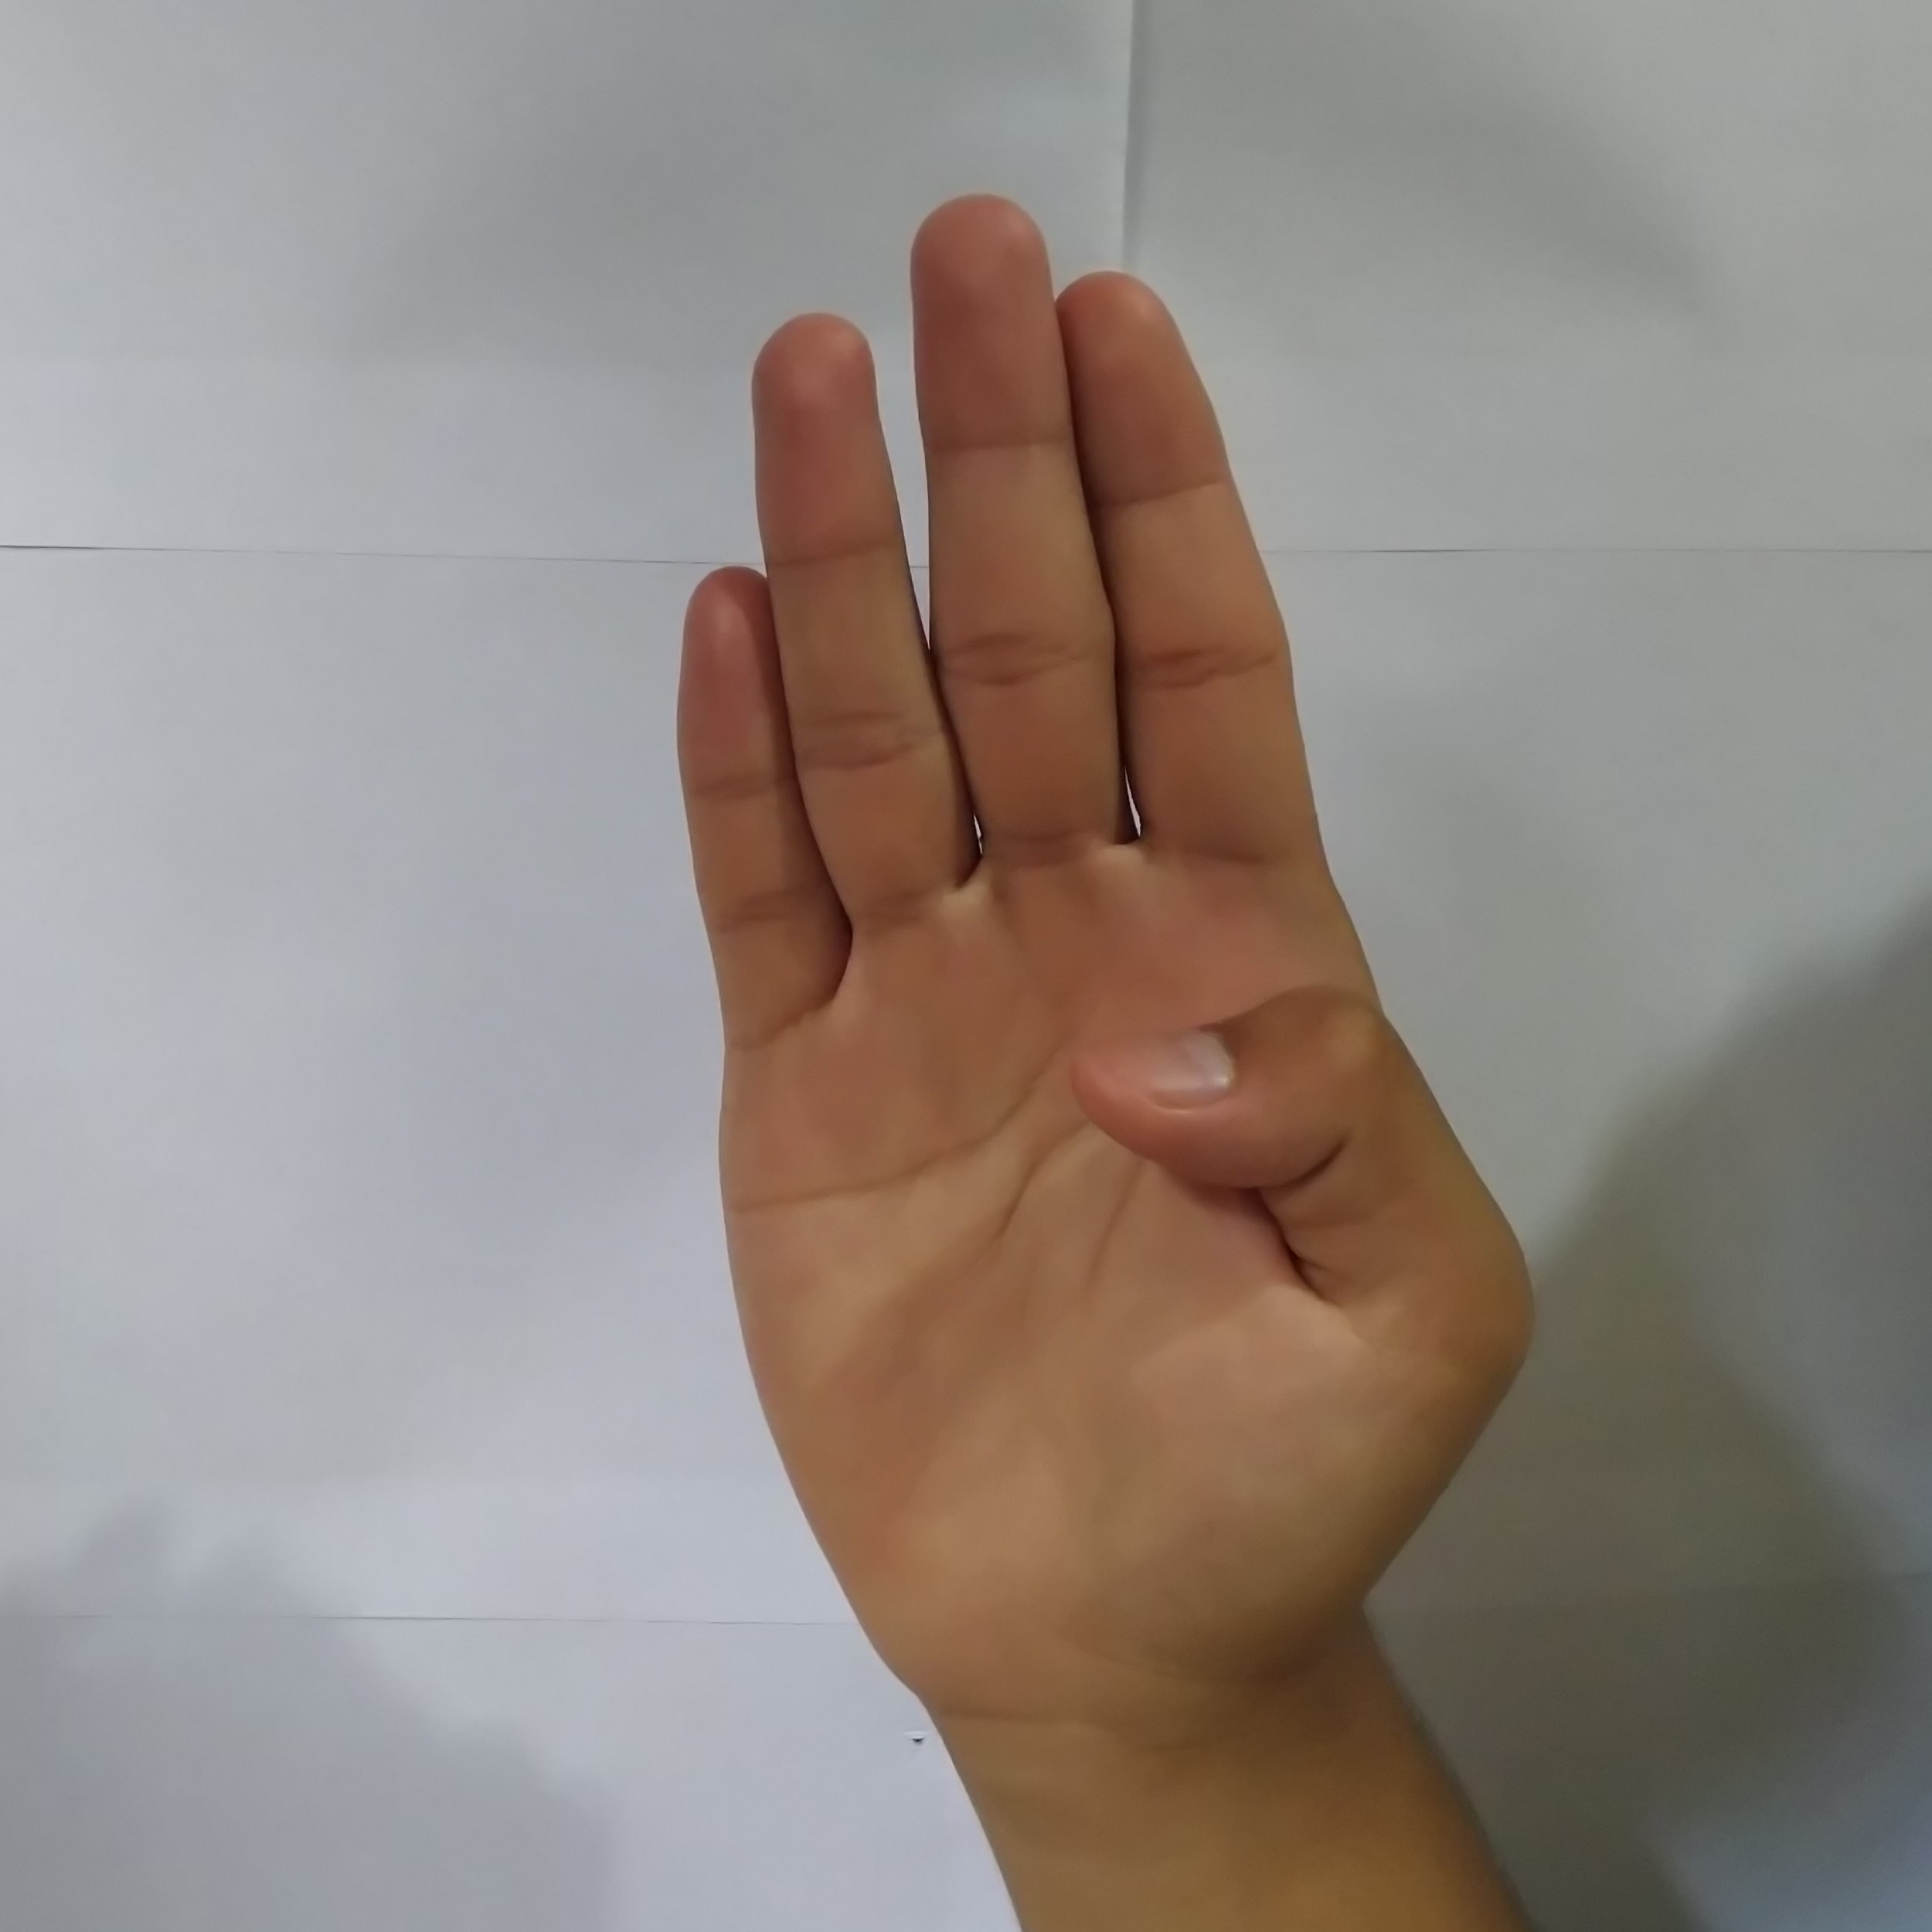B: (648, 170, 1560, 1663)
